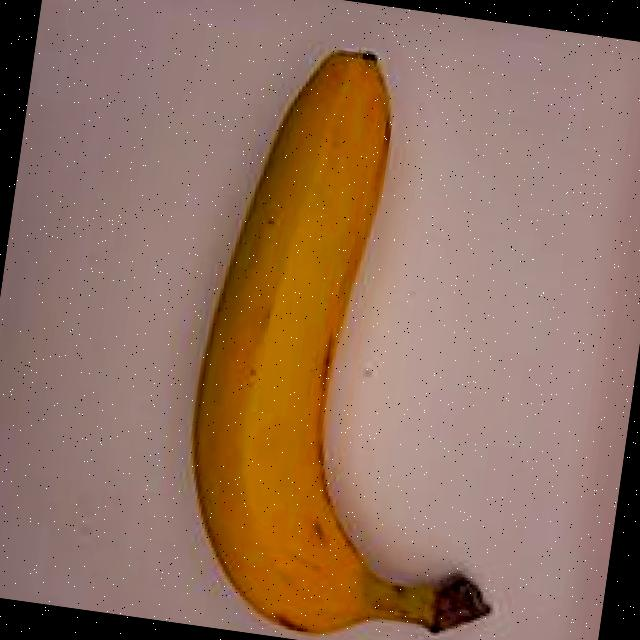Ripe: (138, 12, 572, 640)
